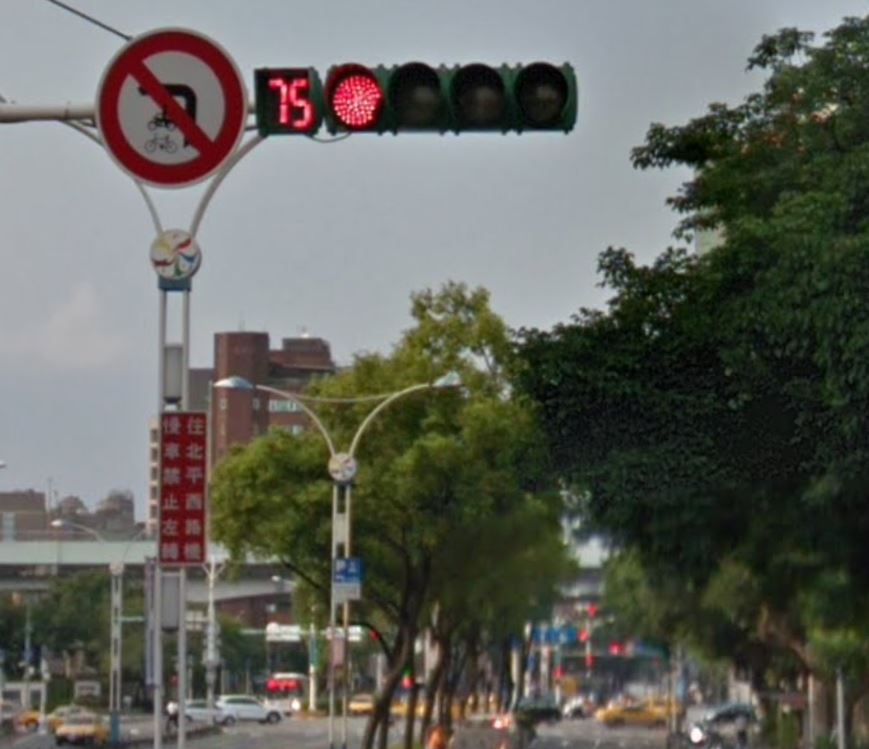Traffic_light_red: (251, 60, 583, 138)
